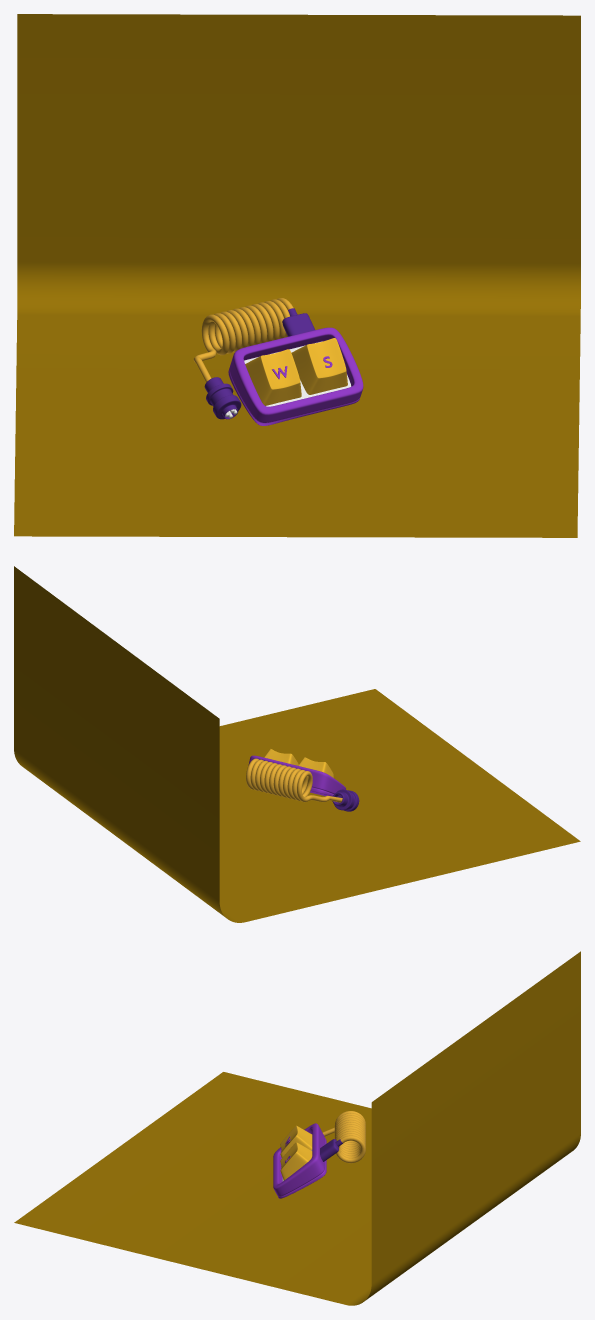
File: cartoon-keyboard.glb
3 views of the same model, one above another, from view 1: azimuth 30°, elevation 25°; view 2: azimuth 150°, elevation 25°; view 3: azimuth 270°, elevation 25° (orthographic). The views are drawn at different scales.
Parts seen in each view (by area): view 1: Plane, Cube, Circle, Cube.002, Cube.001, Cylinder.001; view 2: Plane, Circle, Cube; view 3: Plane, Cube, Circle, Cube.002, Cube.001.
Boxes of the visible parts, left/top/right/bottom form: Plane: left=14, top=14, right=580, bottom=537; Cube: left=228, top=327, right=363, bottom=425; Circle: left=193, top=298, right=293, bottom=382; Cube.002: left=291, top=338, right=347, bottom=394; Cube.001: left=245, top=349, right=301, bottom=405; Cylinder.001: left=204, top=377, right=241, bottom=419; Plane: left=14, top=566, right=580, bottom=922; Circle: left=246, top=758, right=342, bottom=802; Cube: left=248, top=755, right=345, bottom=796; Plane: left=14, top=951, right=580, bottom=1305; Cube: left=273, top=1123, right=326, bottom=1198; Circle: left=322, top=1111, right=365, bottom=1163; Cube.002: left=280, top=1142, right=312, bottom=1180; Cube.001: left=280, top=1125, right=312, bottom=1157.
Bounding box in the file's own units: 19.08 × 7.76 × 19.08.
